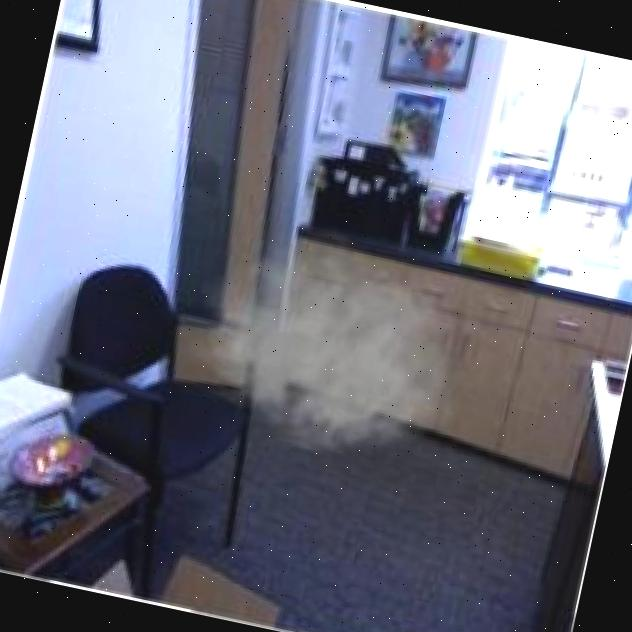smoke: (165, 201, 488, 481)
